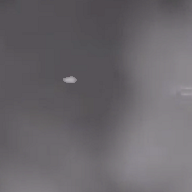Target: (63, 76, 77, 83)
